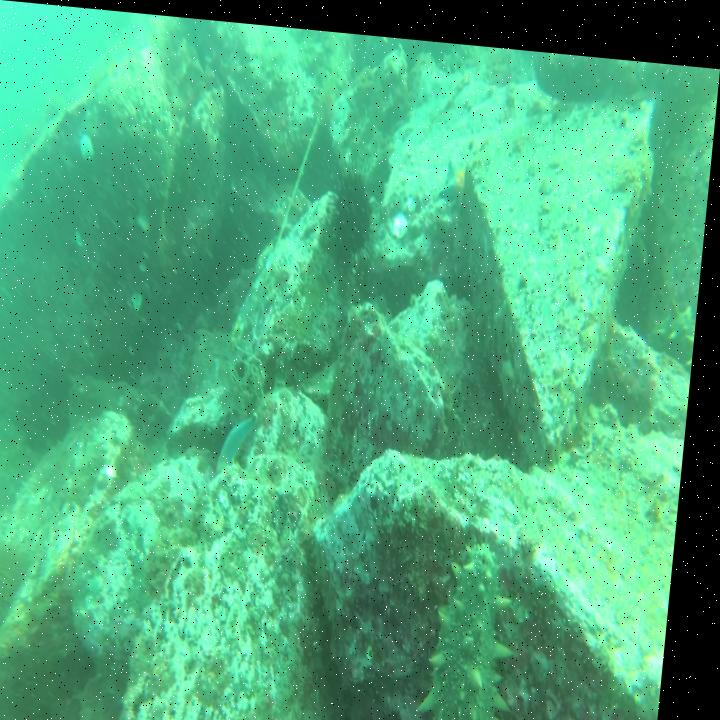echinus: (320, 151, 393, 271), (0, 539, 39, 657)
holothurian: (431, 527, 546, 720), (654, 273, 703, 359), (314, 50, 346, 130), (435, 33, 476, 69)
starfish: (222, 404, 267, 470), (437, 149, 471, 196), (389, 200, 415, 240), (406, 183, 422, 205)
